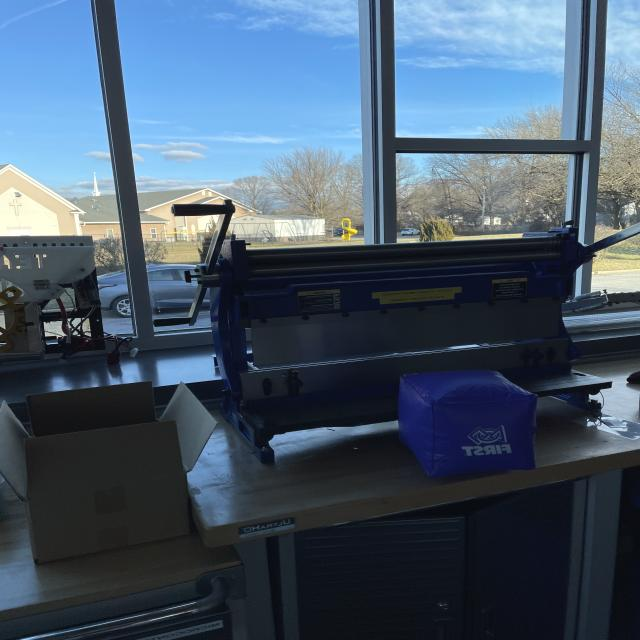frc_cube: (393, 364, 552, 482)
